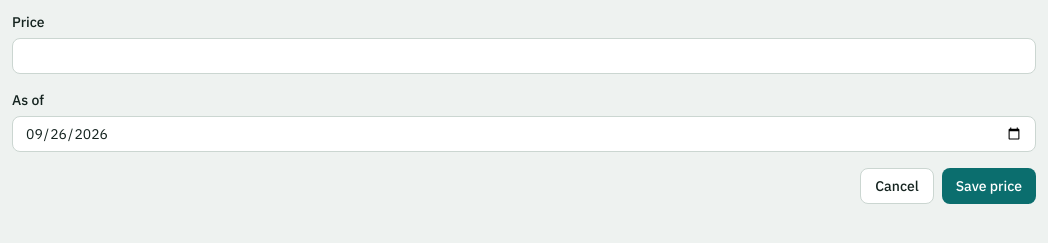
Test case: ManualPriceForm › requires a price
What coordinates should you click on to do the following:
click the button "Save price"
I would click on:
 (989, 186)
Its box is x1=942 y1=168 x2=1036 y2=204.
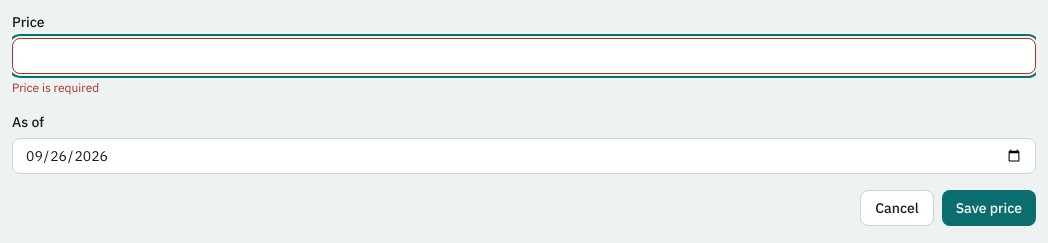
expect the text "Price is required" is shown: met, box x1=12 y1=80 x2=99 y2=95
